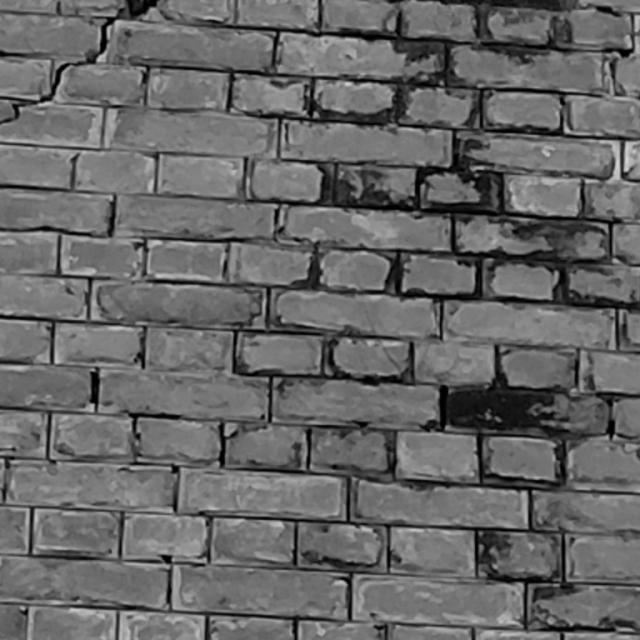crack: (1, 1, 158, 124)
